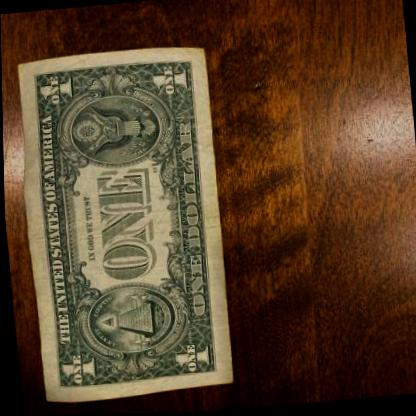one-back: (13, 43, 236, 407)
